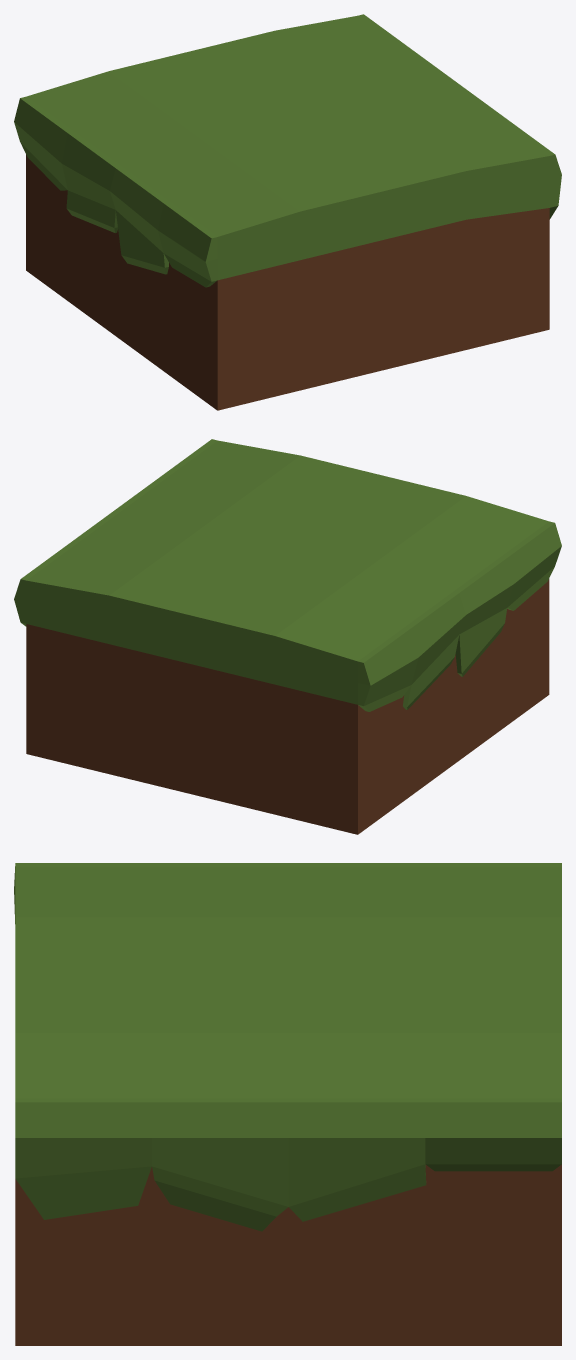
File: GrassBlock(Mid).fbx
The picture shows the model from 3 angles, top to bottom: view 1: azimuth 30°, elevation 25°; view 2: azimuth 150°, elevation 25°; view 3: azimuth 270°, elevation 25°; orthographic projection. The views are drawn at different scales.
Visible parts, largest first — view 1: GrassBlock(M); view 2: GrassBlock(M); view 3: GrassBlock(M).
Part boxes in pixels (left/top/right/bottom): GrassBlock(M): left=14, top=14, right=561, bottom=410; GrassBlock(M): left=14, top=439, right=561, bottom=834; GrassBlock(M): left=14, top=863, right=561, bottom=1345.
Bounding box in the file's own units: 430 × 206 × 401.
